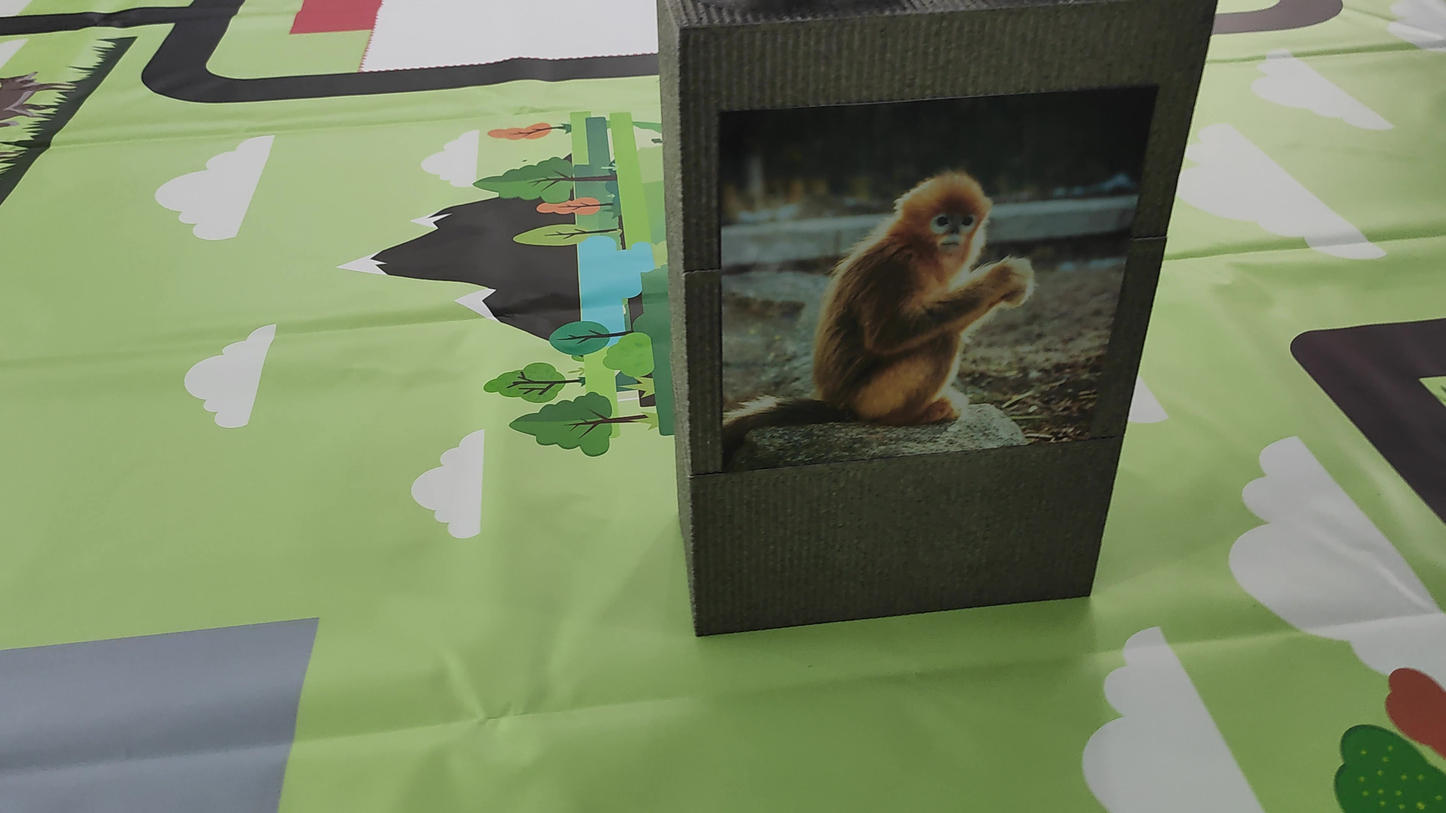monkey: (762, 134, 1074, 410)
